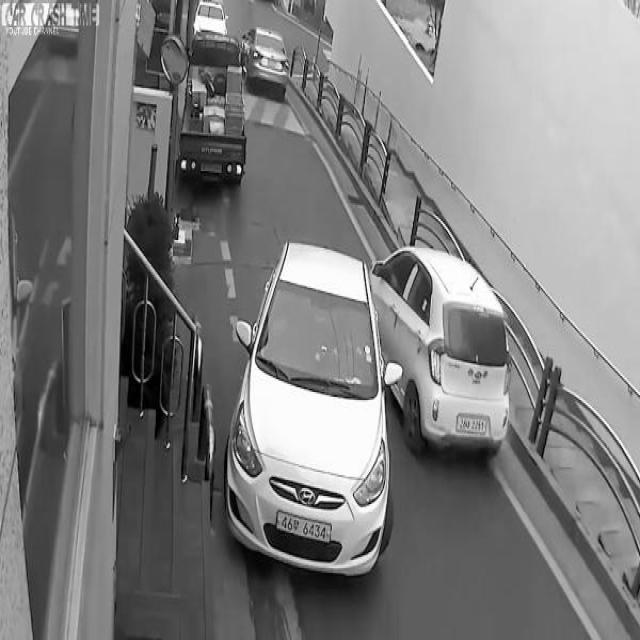car: (224, 237, 393, 597), (372, 216, 512, 470), (239, 22, 292, 109), (192, 0, 235, 48)
license-plate: (273, 506, 337, 547), (453, 411, 493, 440)
